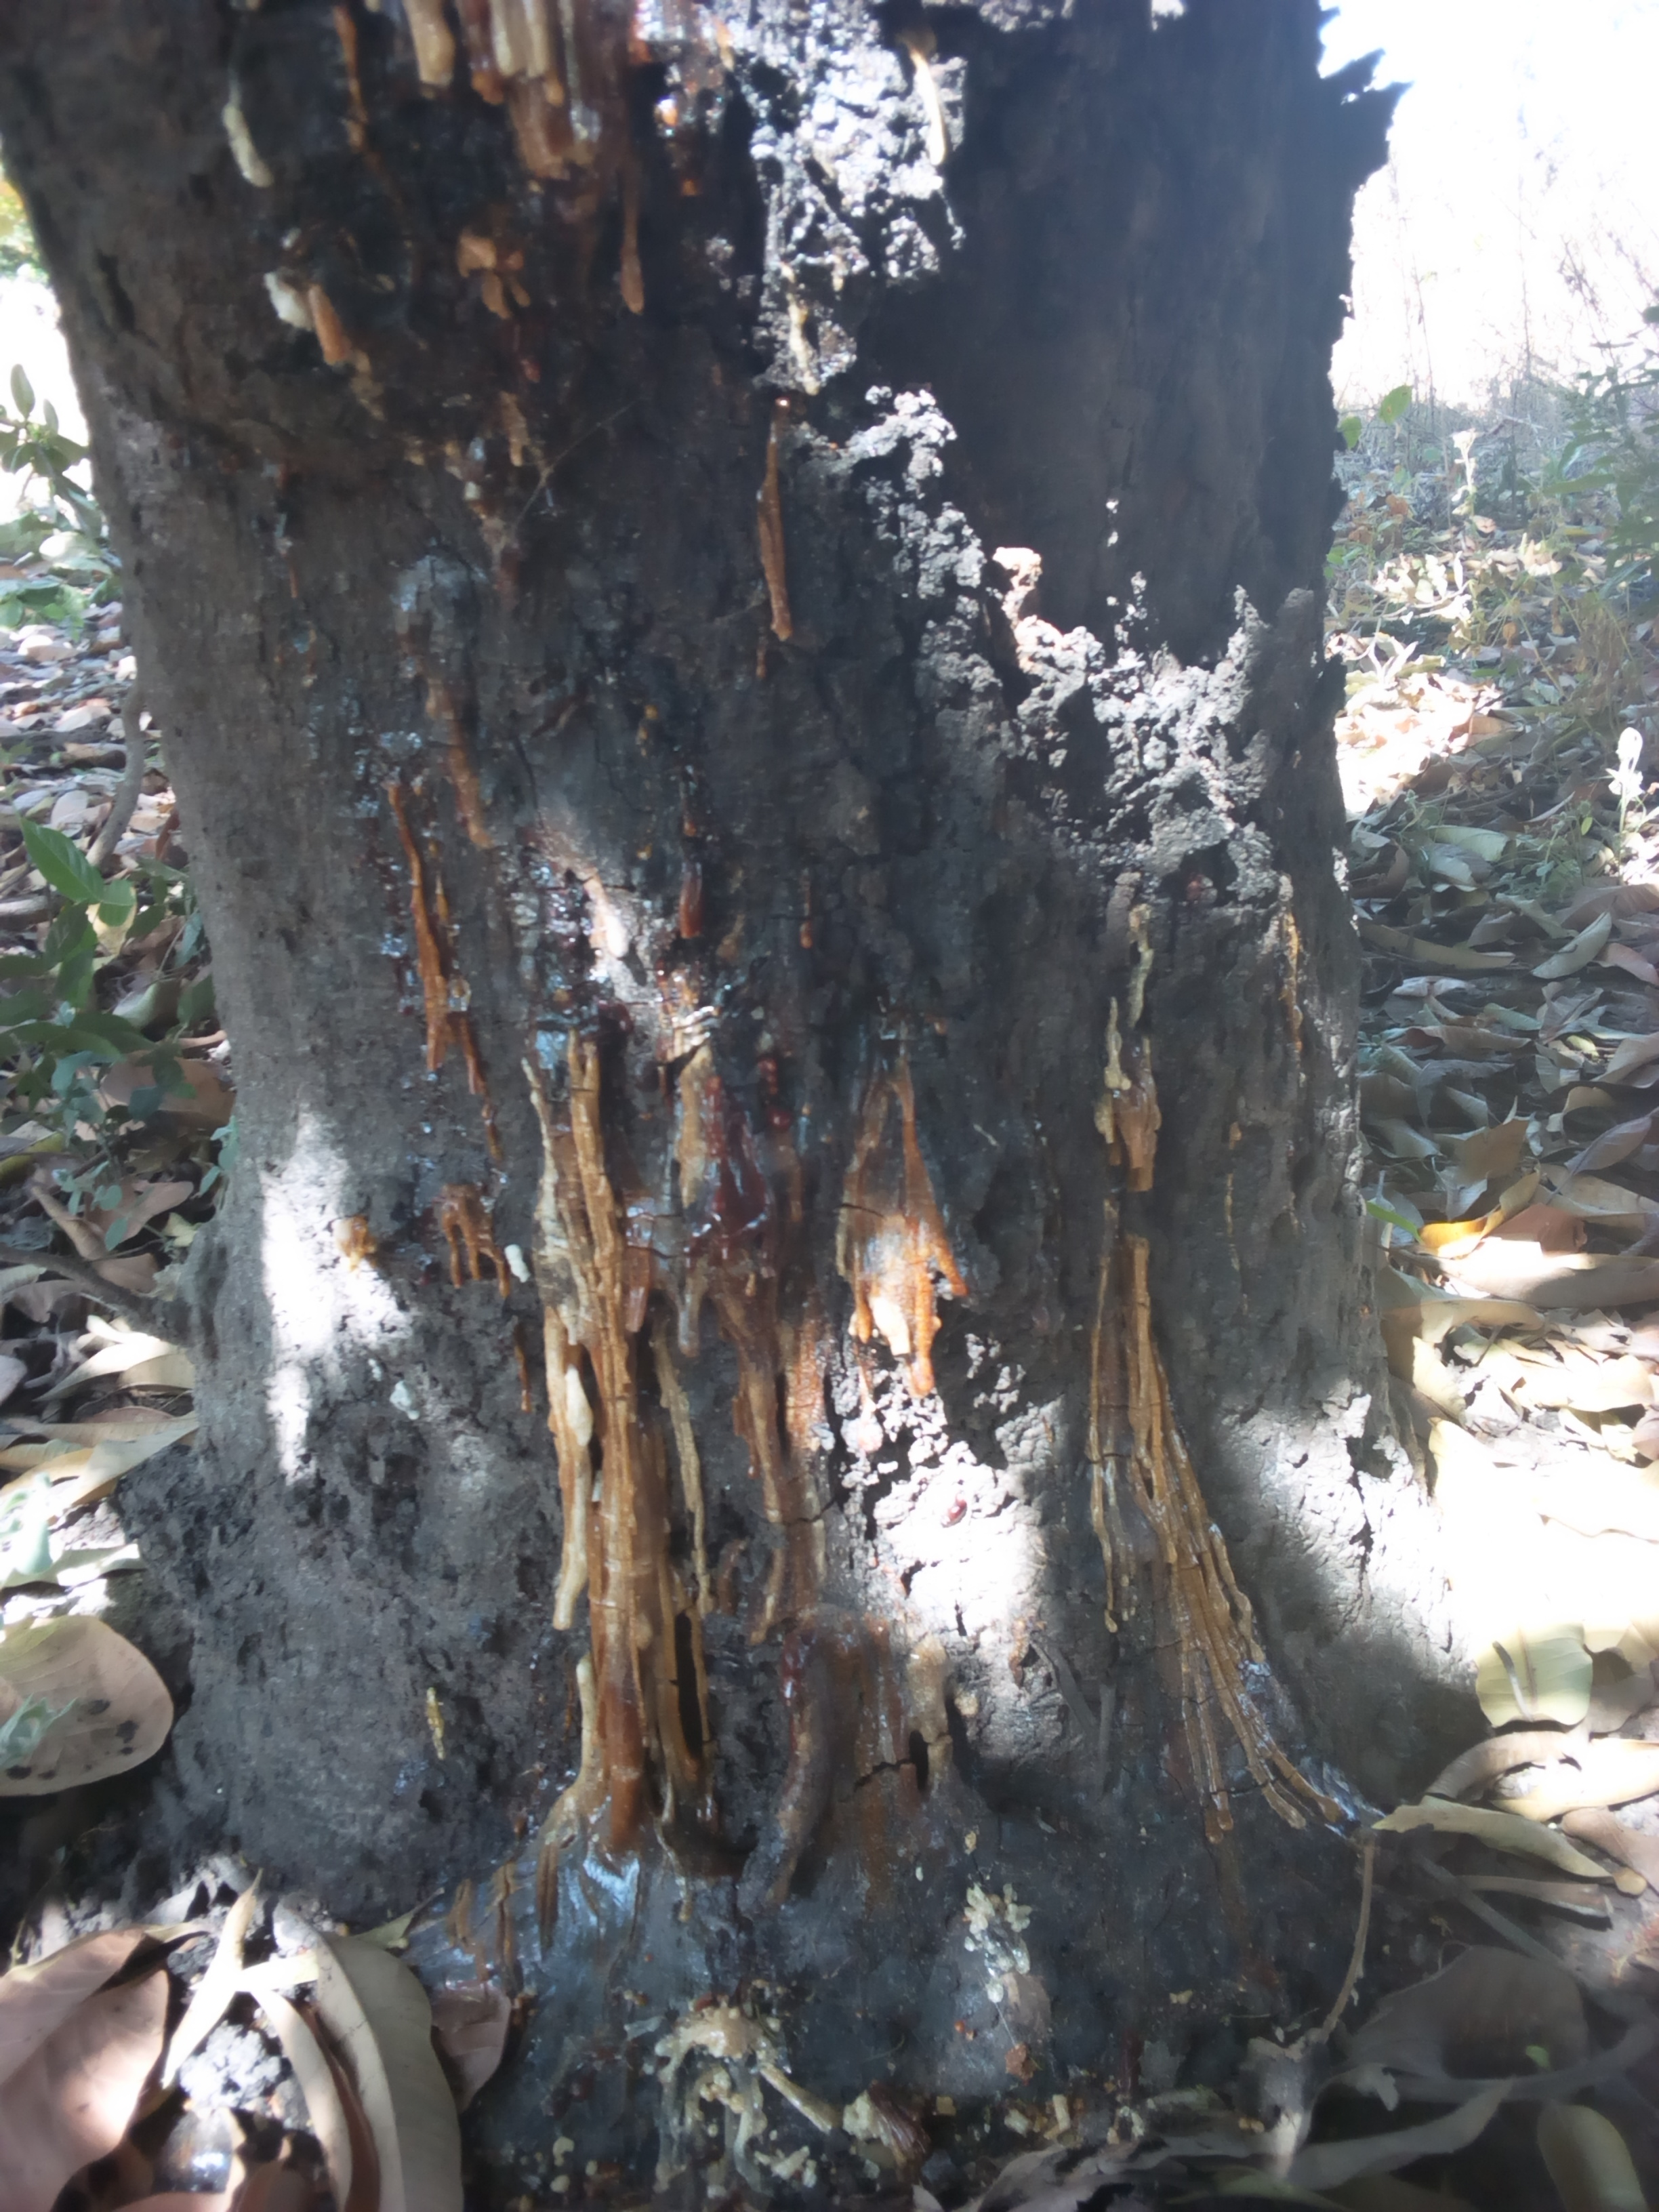Gommose: (260, 2, 976, 1869), (1073, 1008, 1310, 1834)
